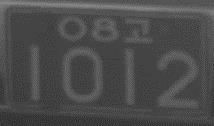0: (61, 46, 103, 104), (57, 13, 87, 43)
1: (113, 47, 146, 106), (20, 44, 51, 102)
2: (157, 48, 200, 111)
8: (91, 15, 120, 43)
고: (122, 16, 153, 44)
